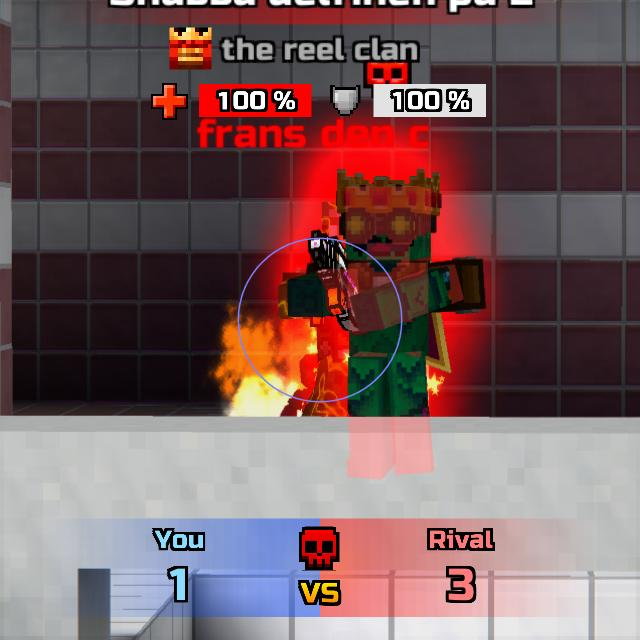Enemy: (280, 181, 486, 415)
